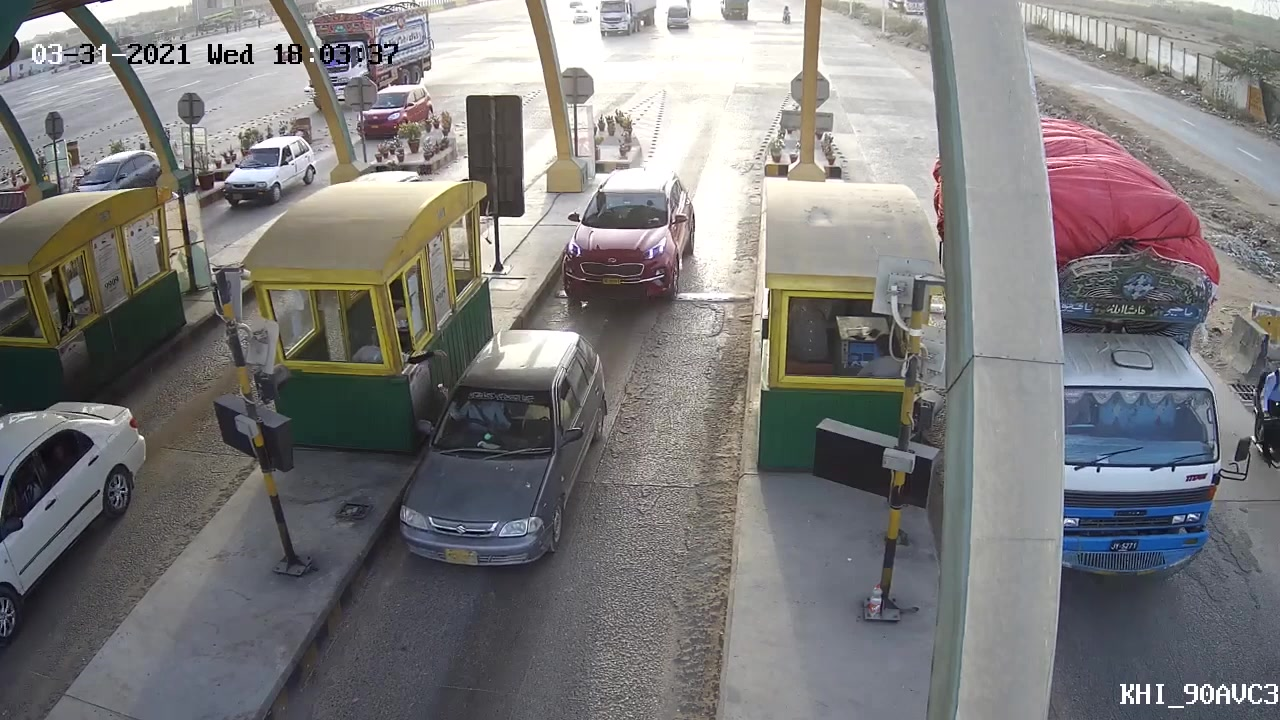F1: (388, 323, 614, 571), (552, 163, 698, 309)
